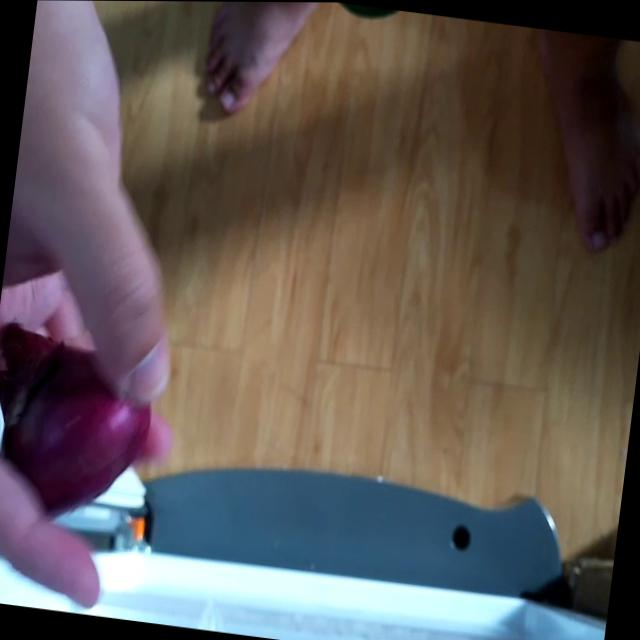onion: (0, 316, 157, 525)
